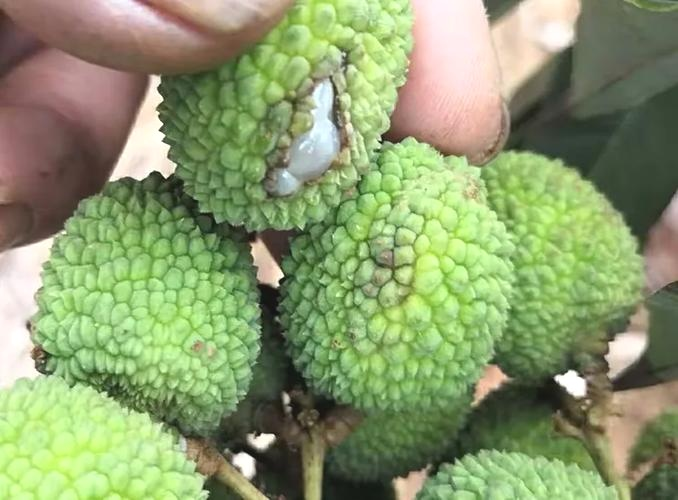Anthracnose: (274, 50, 368, 222)
